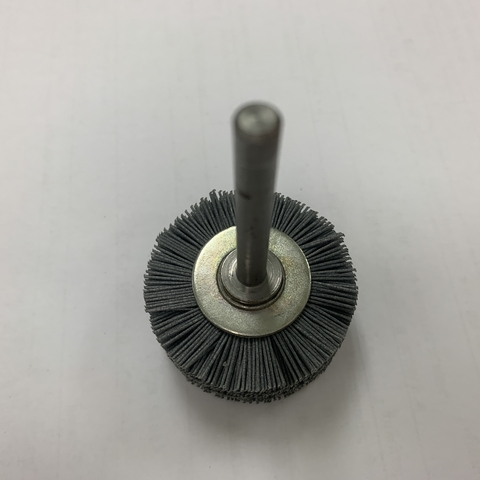Wheel Brush: (129, 71, 382, 420), (144, 92, 355, 434), (132, 169, 376, 408)
